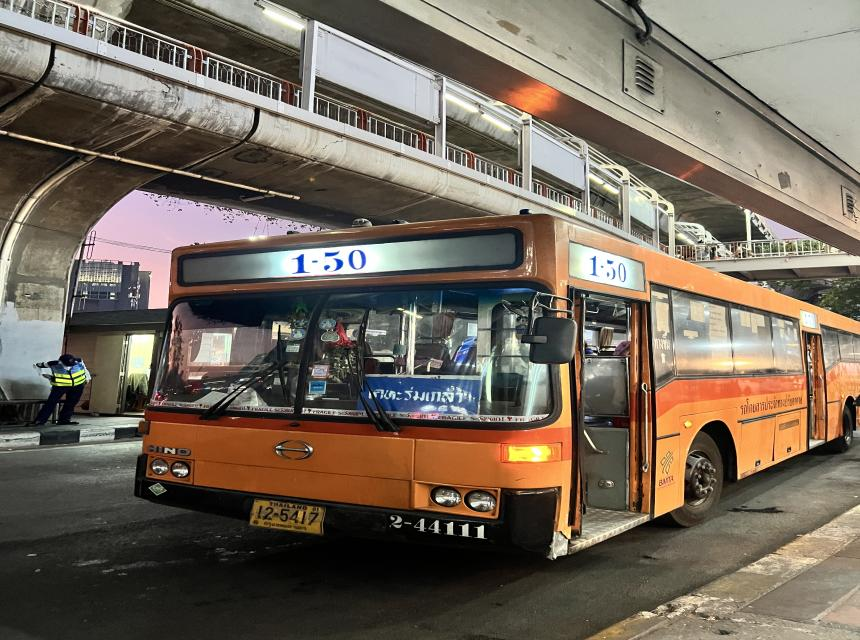BMTA-bus: (134, 215, 860, 563)
Bus Line Number: (275, 247, 386, 274)
Bus Side Number: (375, 511, 493, 543)
Destination Sign: (360, 376, 474, 418)
